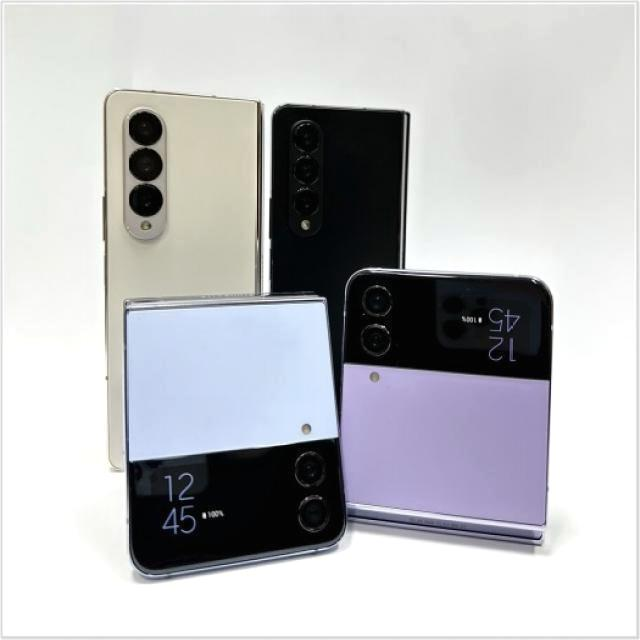lens: (118, 111, 173, 222), (289, 117, 328, 233), (286, 456, 336, 538), (358, 284, 404, 359)
phone: (102, 92, 267, 469), (343, 261, 556, 552), (120, 294, 343, 571), (270, 93, 415, 290)
